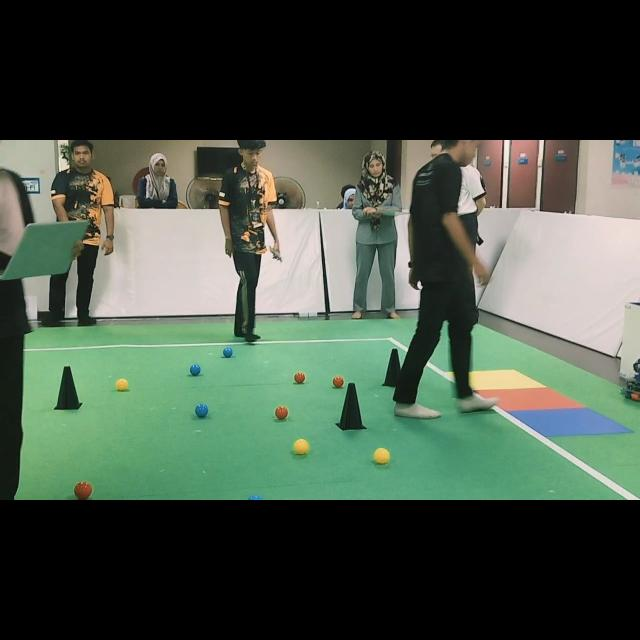ball: (74, 481, 92, 500), (374, 448, 390, 464), (294, 439, 309, 454), (195, 404, 209, 418), (275, 406, 289, 420), (115, 379, 129, 391), (332, 375, 344, 388), (294, 371, 306, 384), (190, 364, 201, 375), (222, 348, 232, 357), (249, 495, 262, 500)
goal: (510, 408, 631, 436), (478, 388, 585, 411), (470, 369, 546, 391), (446, 372, 454, 380)
